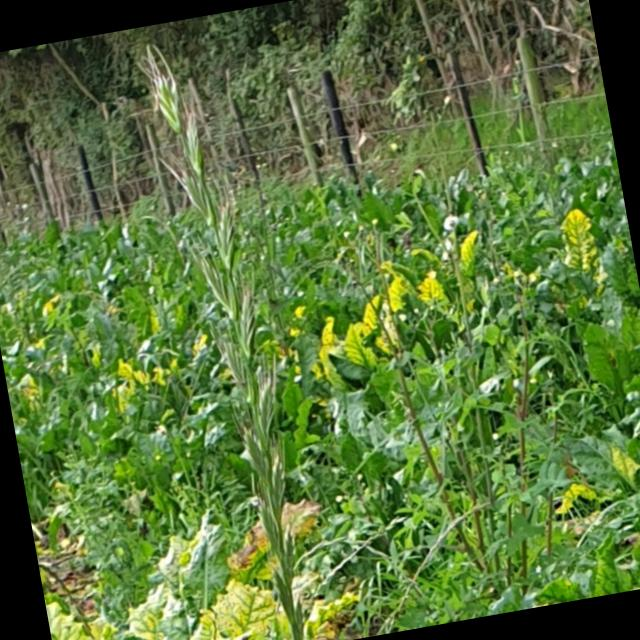Lolium: (136, 29, 324, 640)
